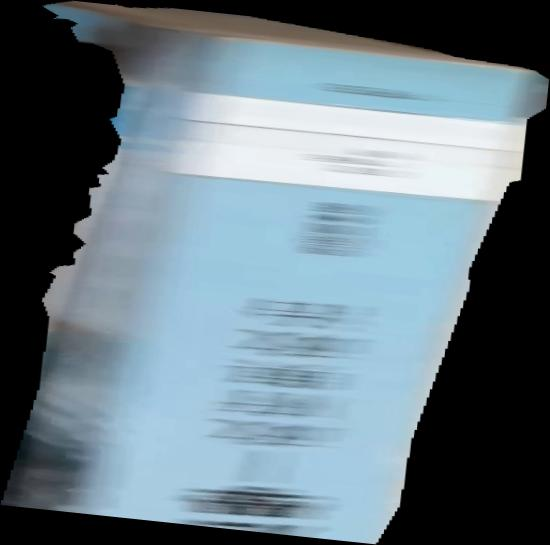reverse: (1, 1, 550, 545)
